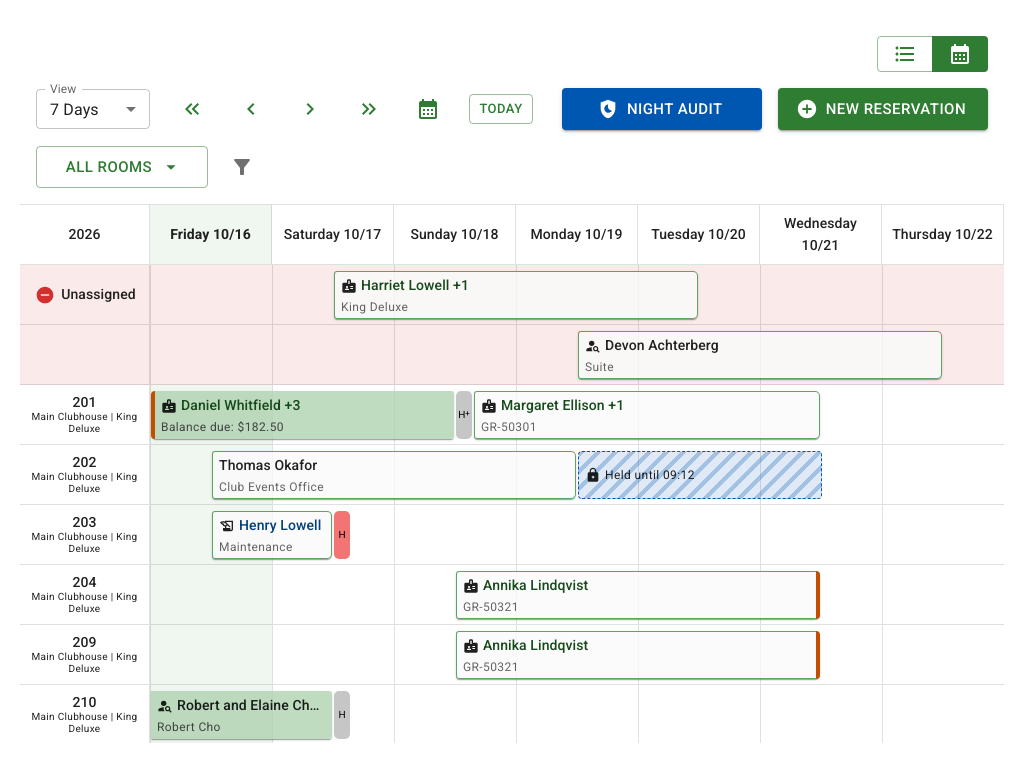
Scenario: the hold of a booking in progress › a refused hold (the room was just booked) explains on the Room field and reloads the schedule
The width and height of the screenshot is (1024, 768).
Click the button "New Reservation".
click(883, 109)  # box [778, 88, 988, 130]
(page scrolled)
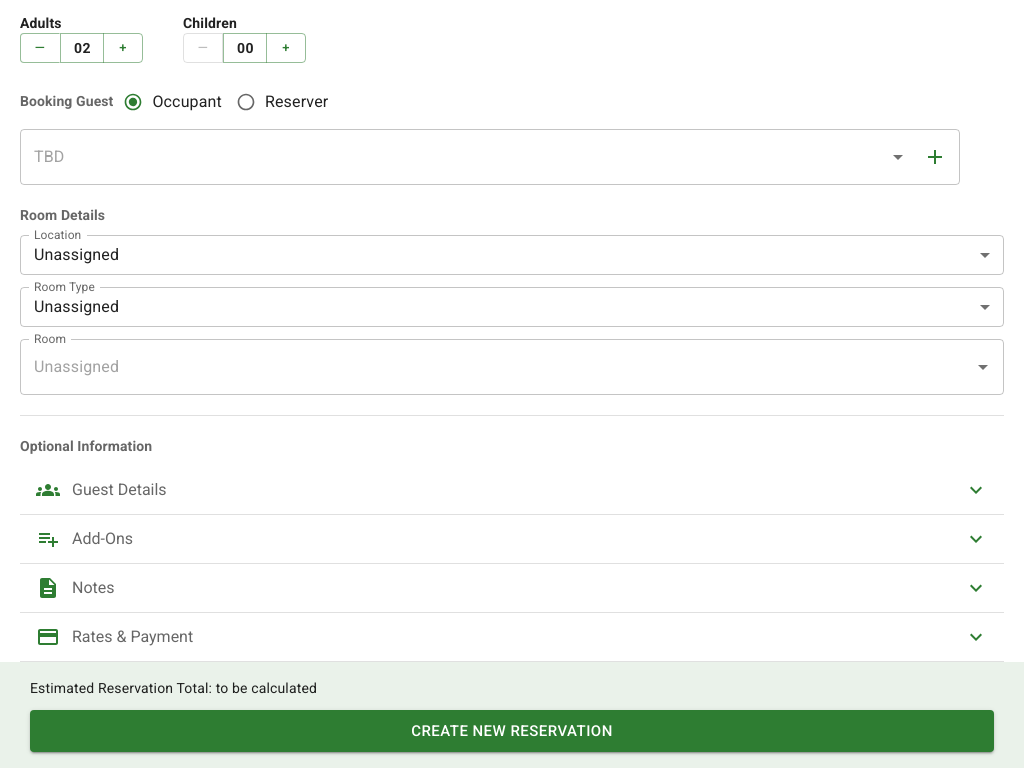
Click the dropdown labelled "Room".
click(497, 367)  # box [29, 348, 965, 386]
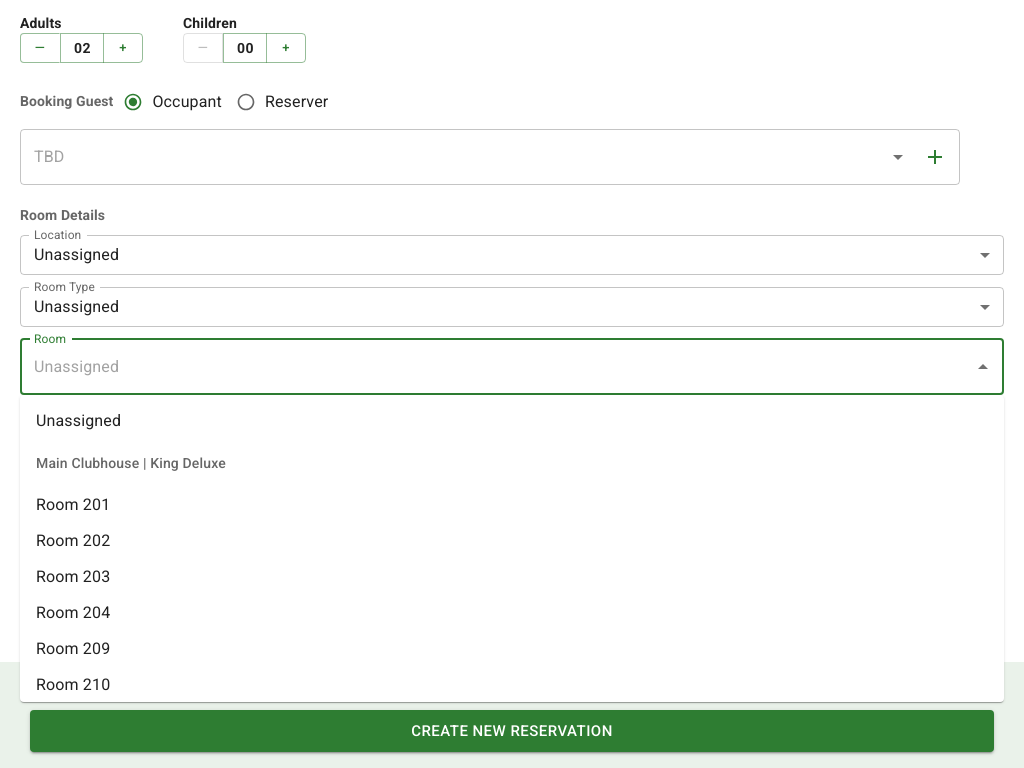
203 is booked tonight in the sample data.
Click the option "Room 203".
click(73, 576)  # box [36, 567, 110, 586]
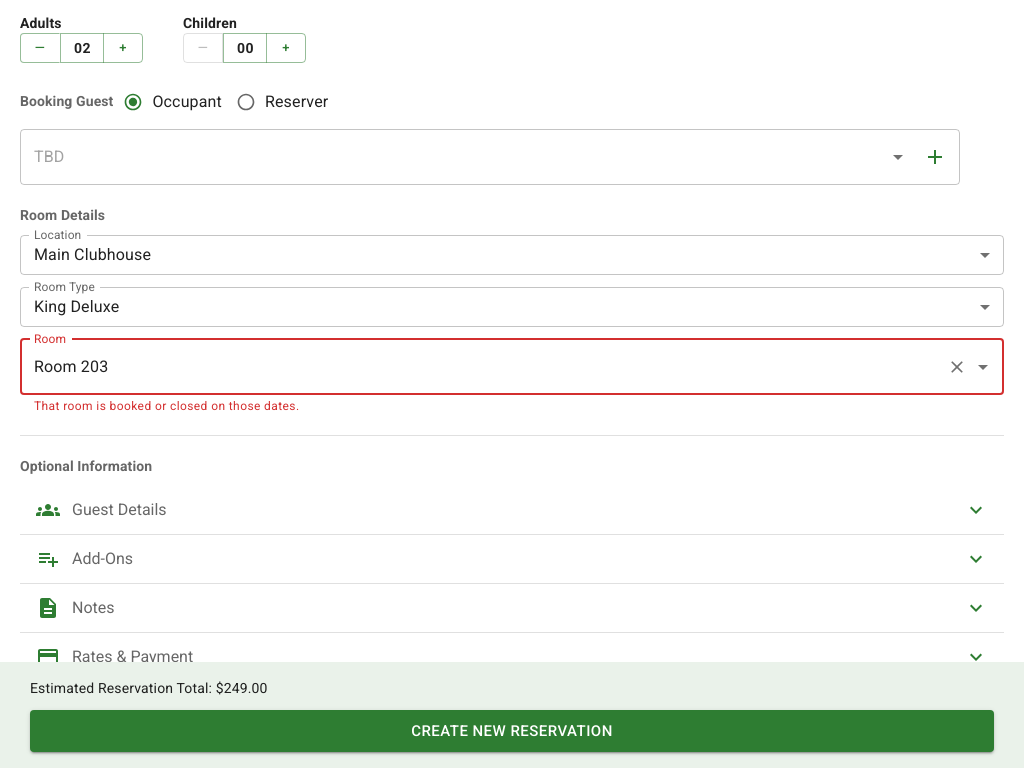
expect the text "That room is booked or closed on those dates." is shown: met, box [34, 399, 300, 413]
